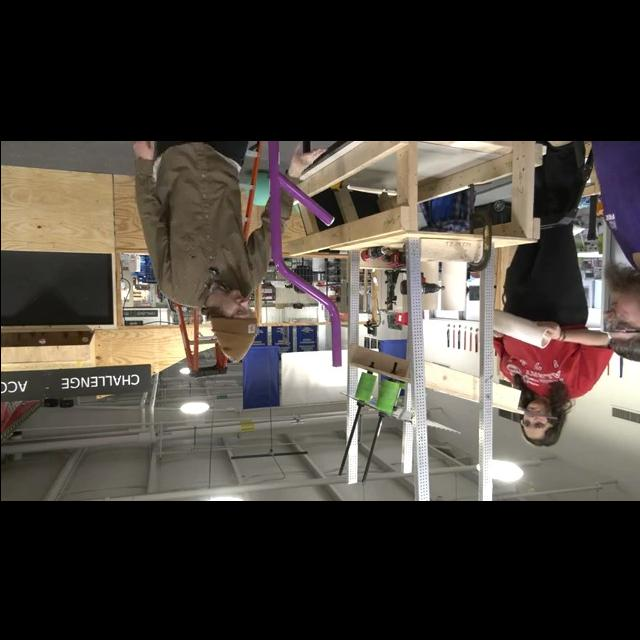CORAL: (492, 307, 554, 348), (441, 262, 465, 310)
